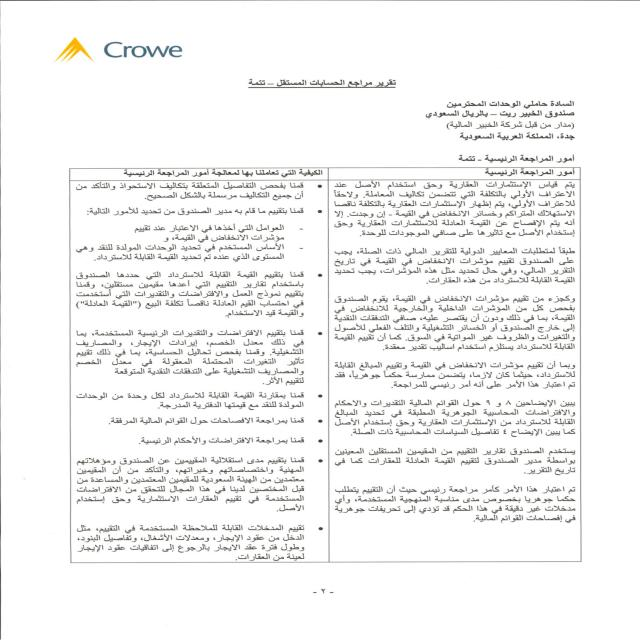auditor_report: (248, 76, 396, 96)
